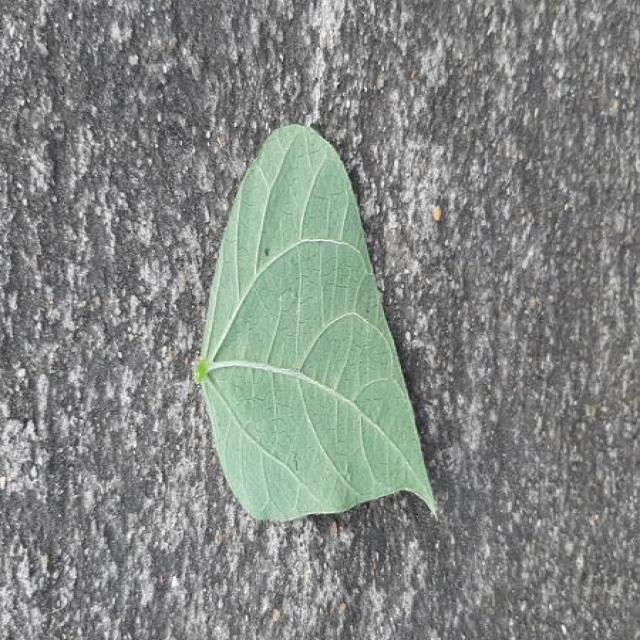beans: (195, 125, 435, 521)
